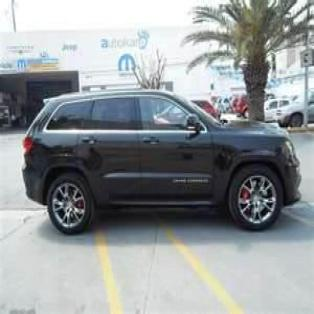Auto: (21, 88, 301, 237)
